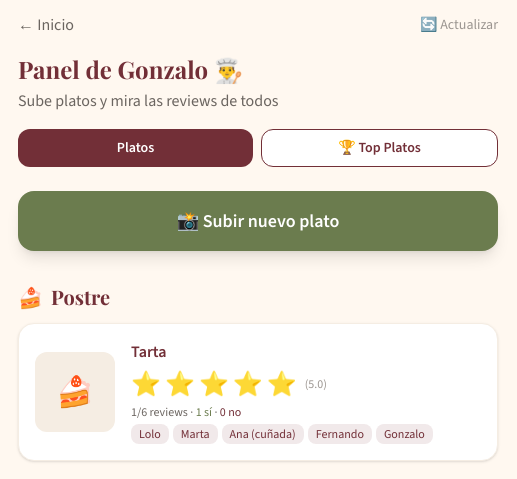
AdminDashboard › toggles between dishes and ranking views
Expected: the text "Tarta" is shown, x1=131 y1=341 x2=167 y2=362
Click the button "🏆 Top Platos" at (380, 148), box x1=261 y1=129 x2=498 y2=167
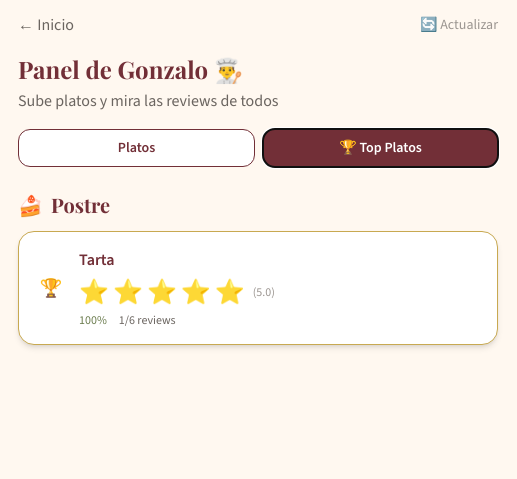
Expected: the element with test id "ranked-dish" is shown, x1=18 y1=231 x2=498 y2=345
Click the button "Platos" at (136, 148), box x1=18 y1=129 x2=255 y2=167
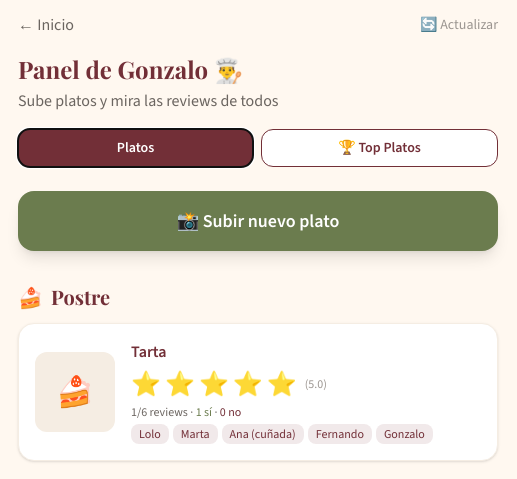
Expected: the button "📸 Subir nuevo plato" is shown, x1=18 y1=191 x2=498 y2=251
